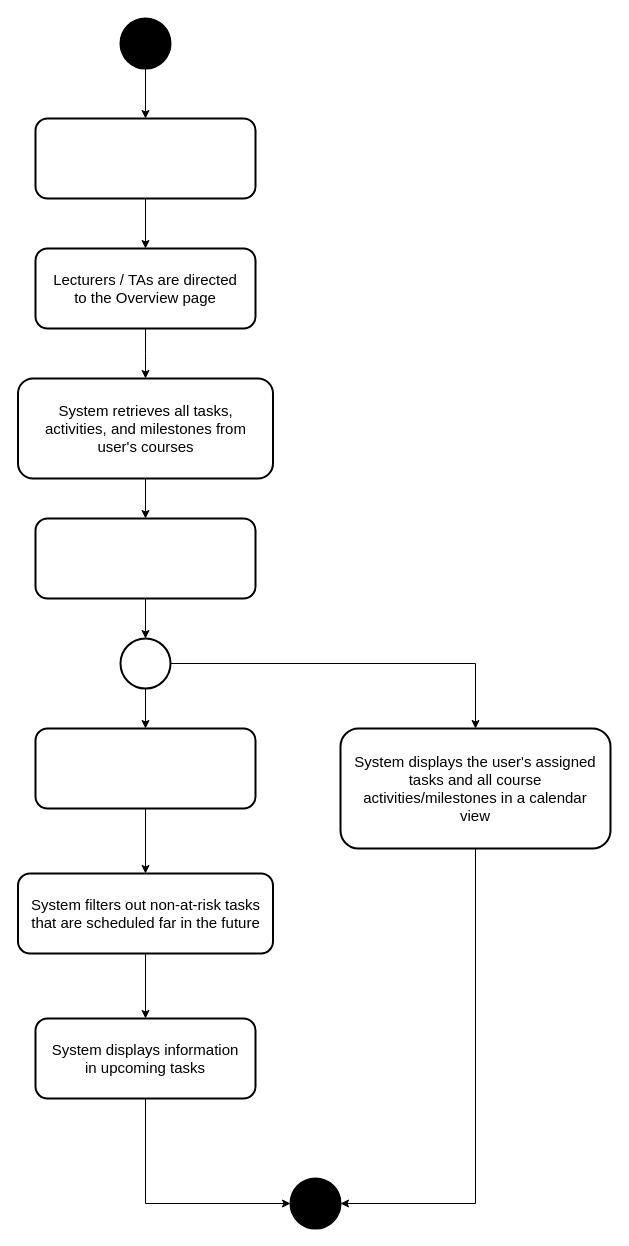
Some shapes in this 629 by 1246 pixel diagram are drawn without their labels. Here are the shapes that lost their labels. From the top down, the centre of each, then its label:
At point (145, 158): "Lecturers / TAs access the web application".
At point (145, 558): "System filters out tasks that are not assigned to the user".
At point (145, 768): "System filters out activities and milestones scheduled far in the future".
